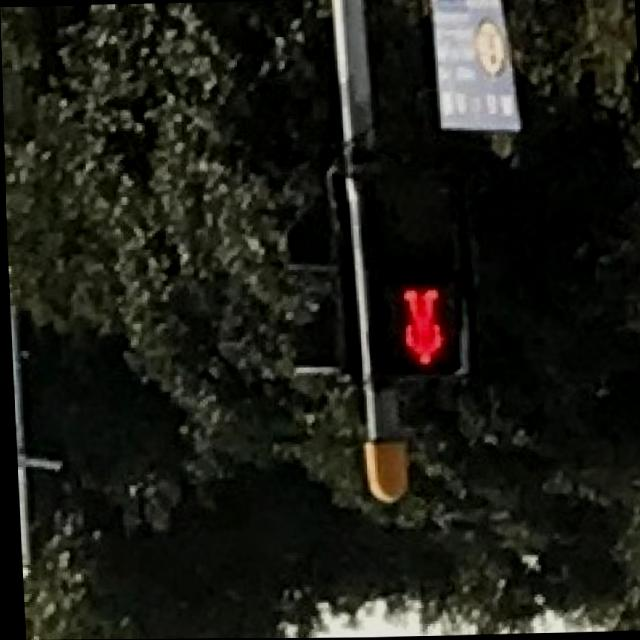red_light: (382, 281, 462, 380)
